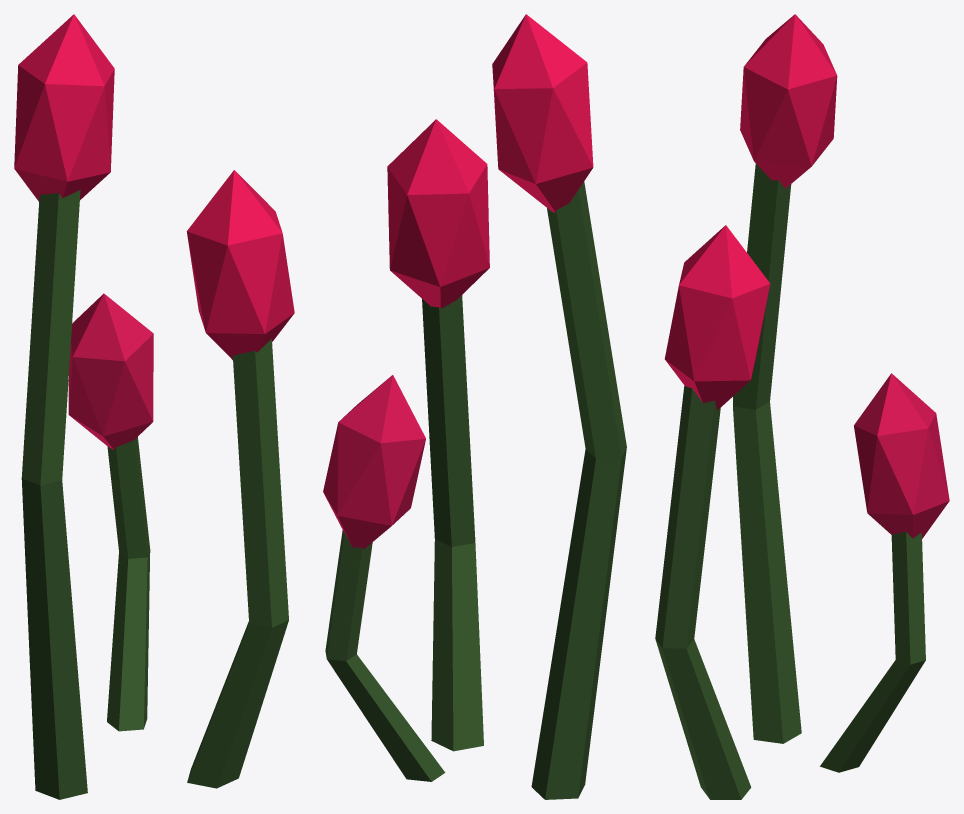
The model's file is Plant_03.glb.
The picture shows the model from 3 angles, left to right: view 1: azimuth 30°, elevation 25°; view 2: azimuth 150°, elevation 25°; view 3: azimuth 270°, elevation 25°; orthographic projection. The views are drawn at different scales.
Parts seen in each view (by area): view 1: Plant_03; view 2: Plant_03; view 3: Plant_03.
Part boxes in pixels (x1,y1,x2,y2): Plant_03: (14,14,294,799); Plant_03: (323,14,626,799); Plant_03: (655,14,949,799).
Size of the model in its own units: 0.2609 by 0.7856 by 0.2874.
Materials: 1 (1 with a texture image).
